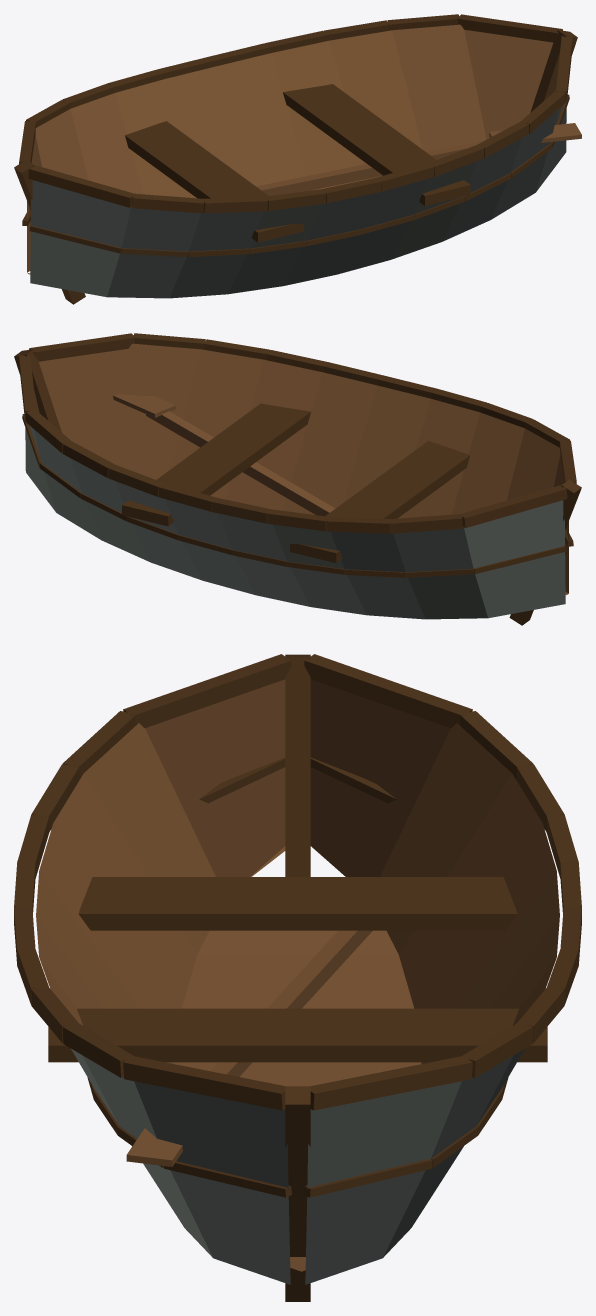
The model's file is dory.glb.
3 views of the same model, one above another, from view 1: azimuth 30°, elevation 25°; view 2: azimuth 150°, elevation 25°; view 3: azimuth 270°, elevation 25° (orthographic). The views are drawn at different scales.
Visible parts, largest first — view 1: dory; view 2: dory; view 3: dory.
Boxes of the visible parts, x1,y1,x2,y2 form: dory: (14,14,581,304); dory: (14,333,581,625); dory: (14,654,581,1301).
Size of the model in its own units: 2.91 by 0.7446 by 1.55.
